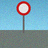sign: (16, 1, 30, 33)
